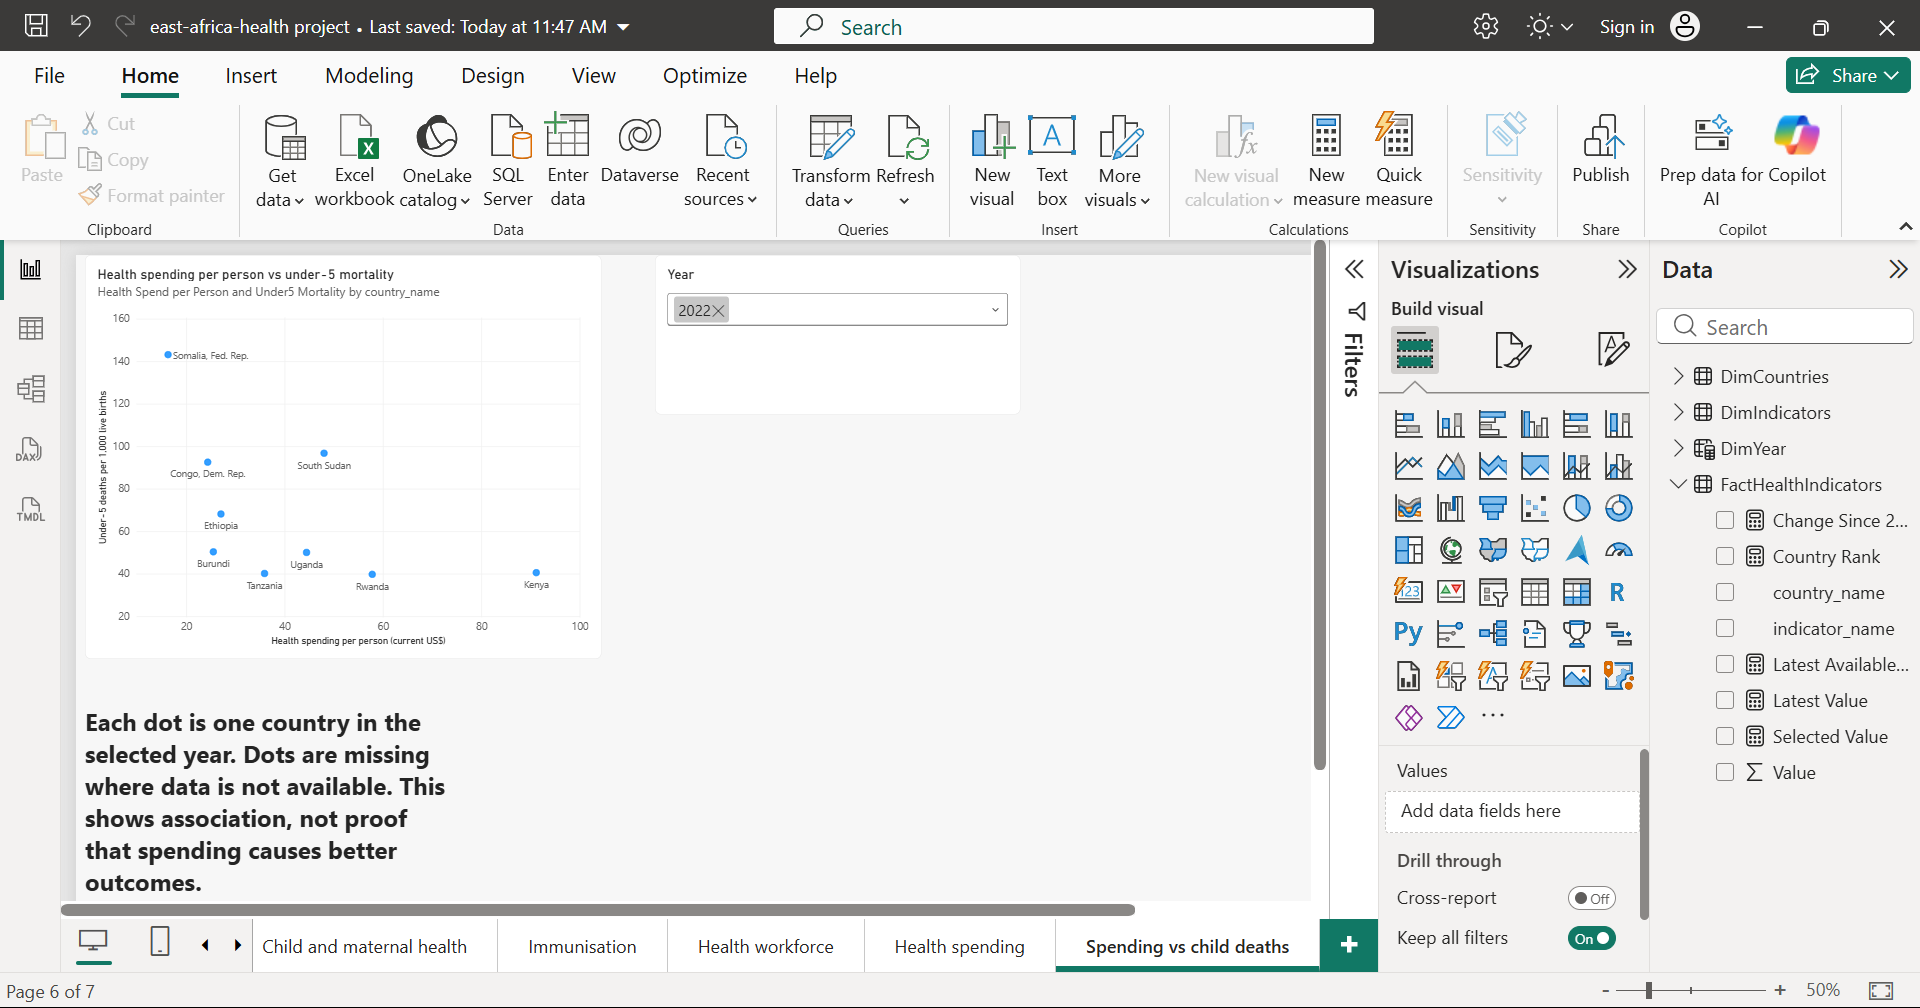

What the dashboard file says about the page in this screenshot:
{"tool":"powerbi","page":{"name":"Spending vs child deaths","canvas":[1920,1080],"ordinal":5},"visuals":[{"type":"scatterChart","title":"Health spending per person vs under-5 mortality","fields":{"Category":["DimCountries.country_name"],"X":["DimCountries.Health Spend per Person"],"Y":["DimCountries.Under5 Mortality"]},"box":[11.3,0,688.8,538.6],"z":0},{"type":"listSlicer","fields":{"Values":["DimYear.Year"]},"box":[771,0,487.6,212.6],"z":1},{"type":"textbox","box":[11.3,600.9,487.6,408.2],"z":2}]}

Visuals, with their boxes on the page's 1920x1080 design canvas (x1, y1, x2, y2). These are canvas units, not pixel positions in the 1920x1008 screenshot, which may show the page scaled, cropped or inside an application window:
"Health spending per person vs under-5 mortality" scatterChart: 11,0,700,539
listSlicer - DimYear.Year: 771,0,1259,213
textbox: 11,601,499,1009
